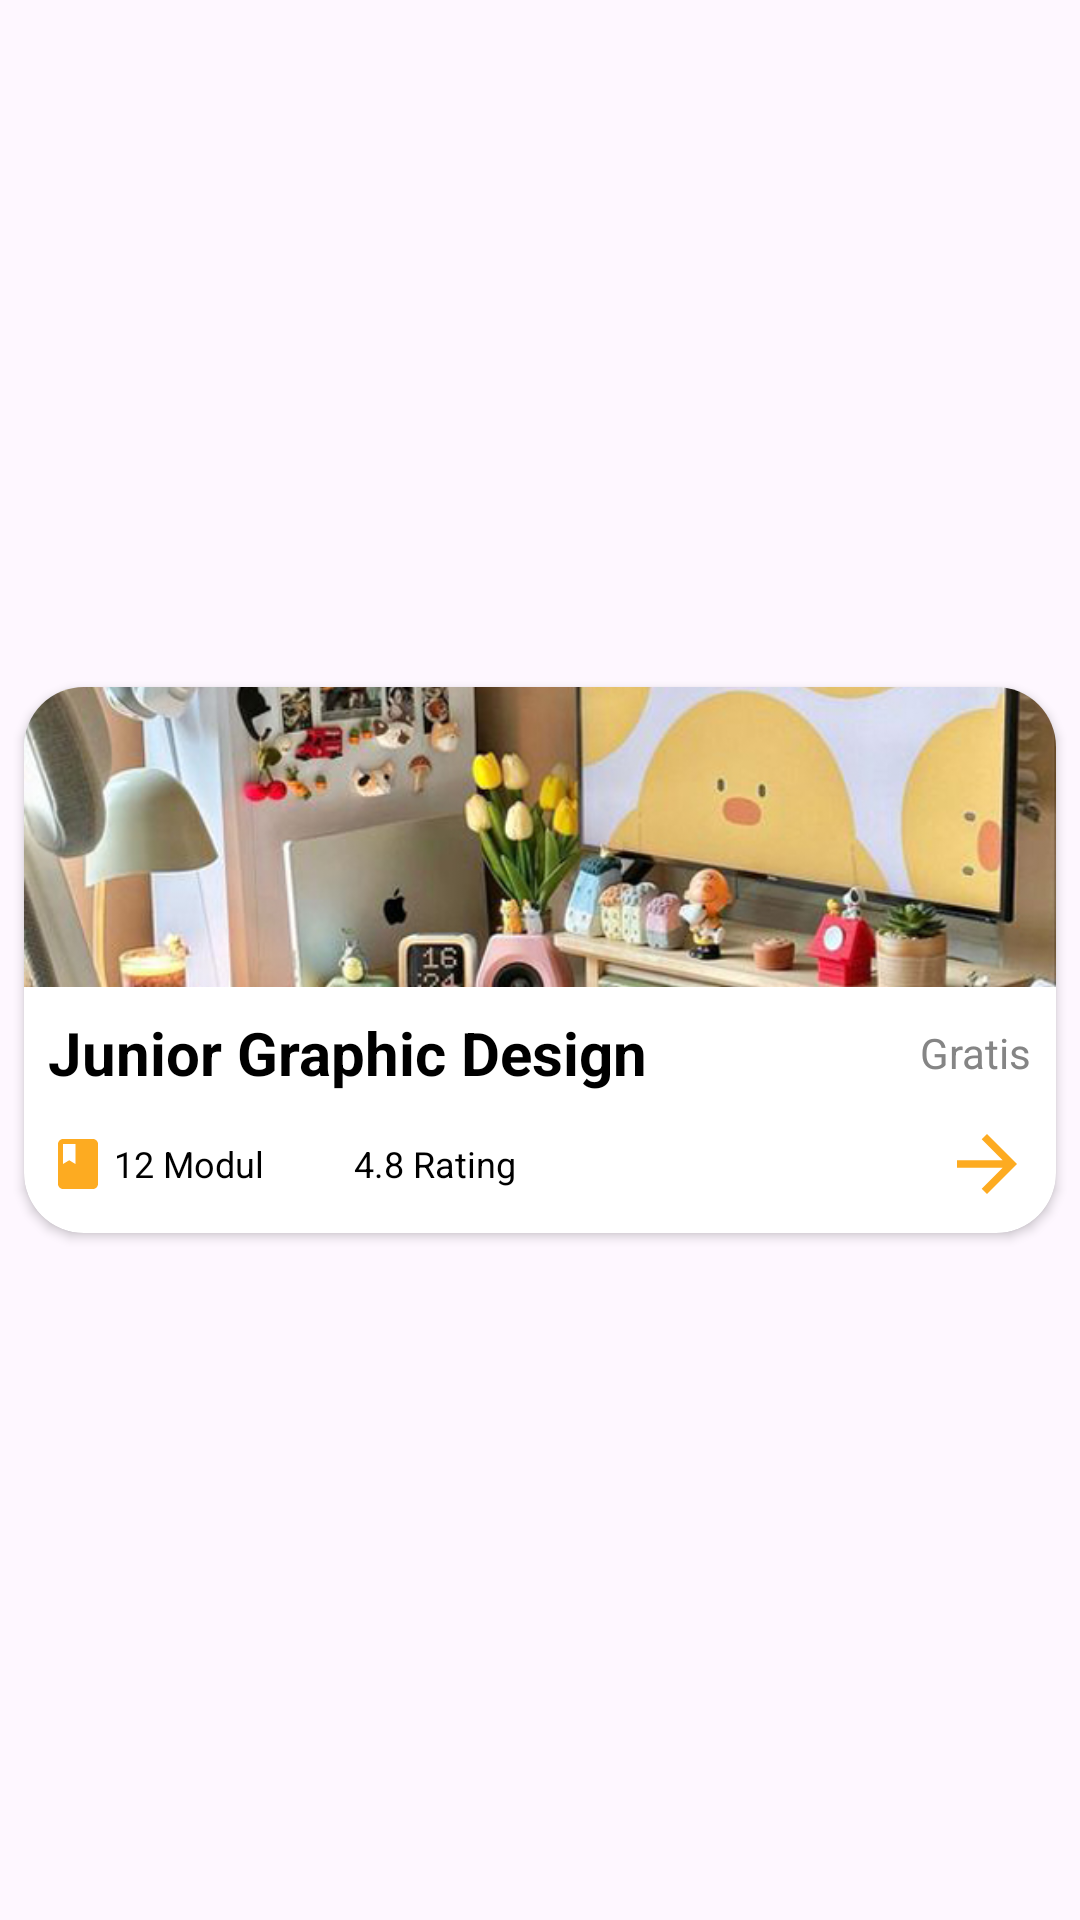

Locate icon controls on the screen. Image size 1080 × 1920, boxes as (x1, y1, x2, y2).
arrow forward: (957, 1134, 1017, 1194)
book: (58, 1139, 98, 1189)
